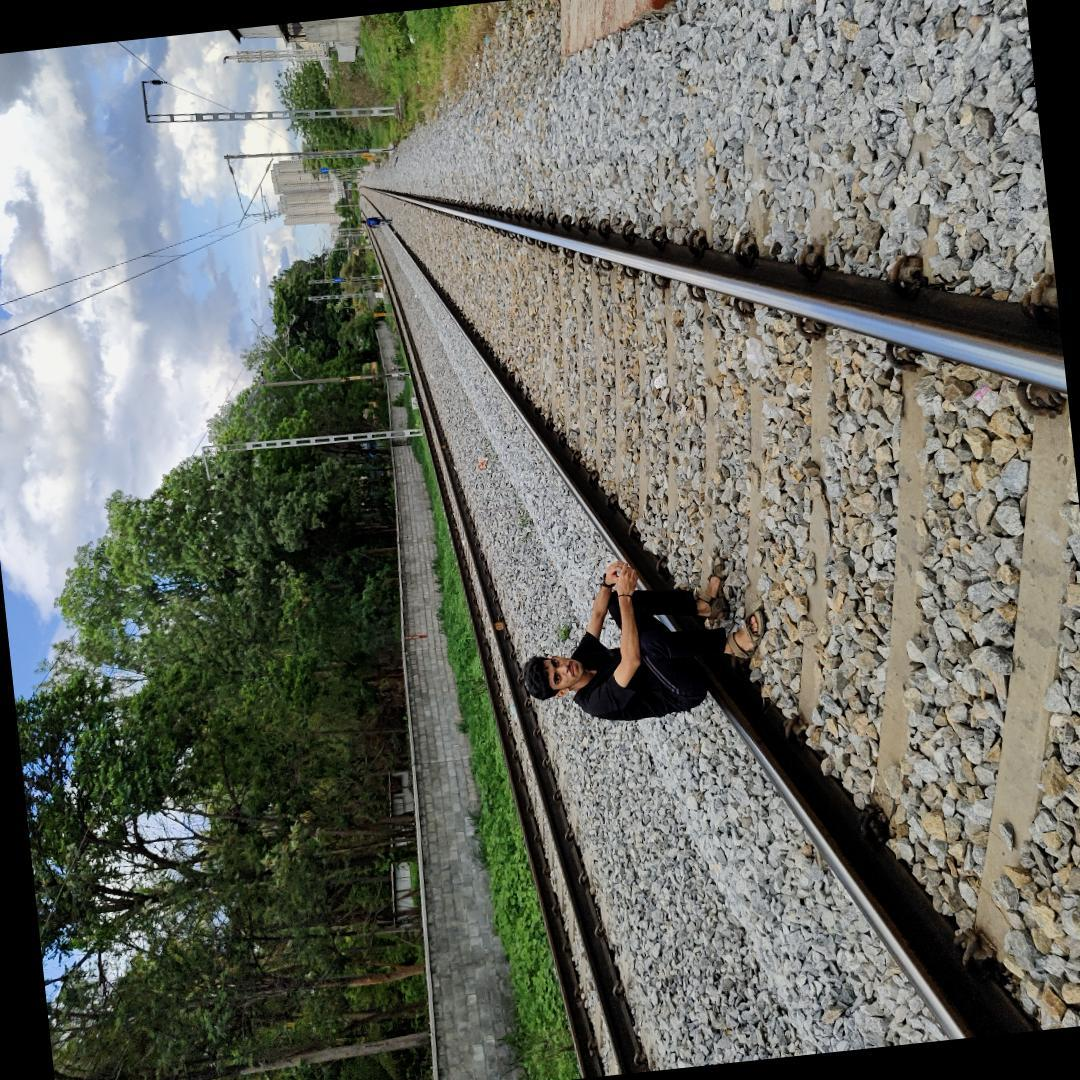sitting: (509, 562, 776, 729)
